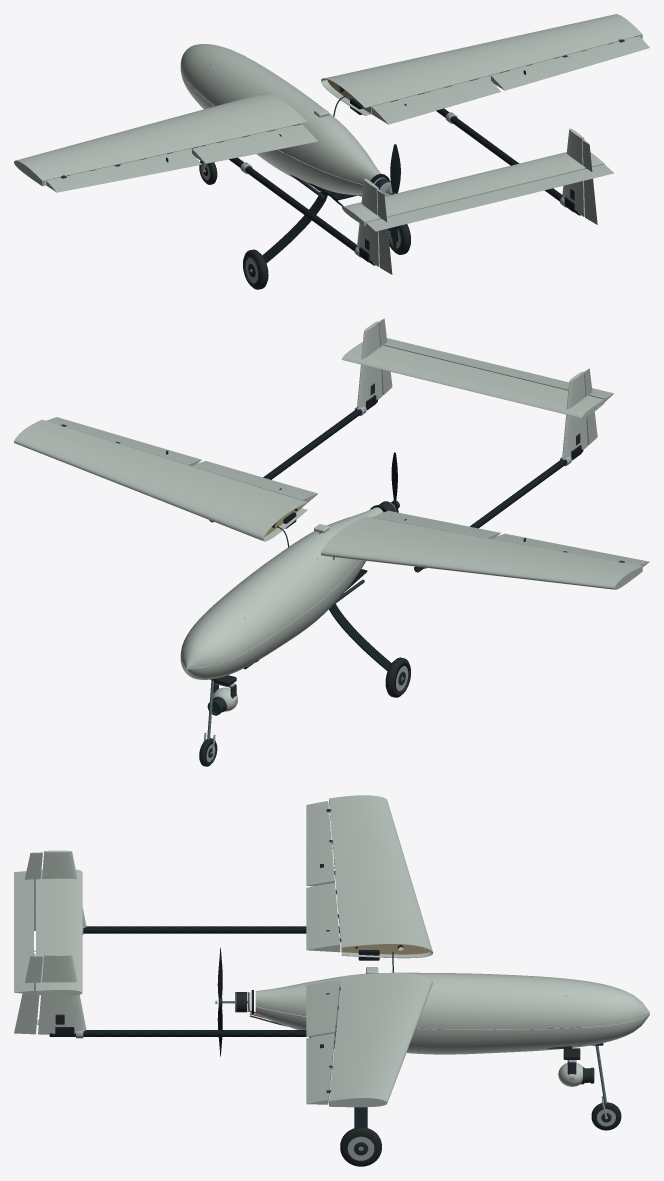
Rendered from 固定翼无人机_无商标精细模型.glb.
3 renders of one model, top to bottom at view 1: azimuth 30°, elevation 25°; view 2: azimuth 150°, elevation 25°; view 3: azimuth 270°, elevation 25°, orthographic. The views are drawn at different scales.
Visible parts, largest first — view 1: batched_upper_wing_skin_1_skin, batched_upper_wing_skin_-1_skin, batched_horizontal_stabilizer_skin, batched_removable_equipment_hatch_skin, batched_upper_rear_fairing_skin, batched_elevator_hinge_tail, batched_aileron_1_tail, batched_flap_1_tail, batched_aileron_-1_tail, batched_flap_-1_tail, batched_lower_fuselage_shell_skin, batched_landing_gear_rubber (+10 smaller); view 2: batched_upper_wing_skin_1_skin, batched_upper_wing_skin_-1_skin, batched_removable_equipment_hatch_skin, batched_horizontal_stabilizer_skin, batched_lower_fuselage_shell_skin, batched_upper_nose_shell_skin, batched_elevator_hinge_tail, batched_flap_1_tail, batched_vertical_tail_-1_skin, batched_aileron_1_tail, batched_vertical_tail_1_skin, batched_flap_-1_tail (+7 smaller); view 3: batched_upper_wing_skin_-1_skin, batched_upper_wing_skin_1_skin, batched_removable_equipment_hatch_skin, batched_lower_fuselage_shell_skin, batched_horizontal_stabilizer_skin, batched_vertical_tail_1_skin, batched_upper_nose_shell_skin, batched_elevator_hinge_tail, batched_flap_-1_tail, batched_aileron_-1_tail, batched_hollow_carbon_tail_boom_-1_carbon, batched_aileron_1_tail (+8 smaller).
Part boxes in pixels (x1,y1,x2,y2): batched_upper_wing_skin_1_skin: [321, 14, 642, 107]; batched_upper_wing_skin_-1_skin: [14, 92, 307, 180]; batched_horizontal_stabilizer_skin: [342, 152, 604, 225]; batched_removable_equipment_hatch_skin: [192, 50, 329, 152]; batched_upper_rear_fairing_skin: [284, 110, 381, 184]; batched_elevator_hinge_tail: [366, 164, 613, 231]; batched_aileron_1_tail: [491, 36, 649, 90]; batched_flap_1_tail: [372, 77, 500, 124]; batched_aileron_-1_tail: [46, 149, 201, 192]; batched_flap_-1_tail: [192, 124, 318, 163]; batched_lower_fuselage_shell_skin: [180, 69, 363, 195]; batched_landing_gear_rubber: [199, 160, 410, 289]; batched_upper_wing_skin_1_skin: [14, 419, 307, 539]; batched_upper_wing_skin_-1_skin: [321, 516, 642, 588]; batched_removable_equipment_hatch_skin: [199, 538, 341, 650]; batched_horizontal_stabilizer_skin: [341, 342, 604, 418]; batched_lower_fuselage_shell_skin: [180, 560, 365, 679]; batched_upper_nose_shell_skin: [180, 614, 248, 668]; batched_elevator_hinge_tail: [383, 338, 613, 401]; batched_flap_1_tail: [192, 461, 317, 507]; batched_vertical_tail_-1_skin: [562, 371, 587, 459]; batched_aileron_1_tail: [46, 417, 201, 466]; batched_vertical_tail_1_skin: [357, 321, 382, 409]; batched_flap_-1_tail: [372, 510, 500, 538]; batched_upper_wing_skin_-1_skin: [329, 795, 432, 952]; batched_upper_wing_skin_1_skin: [329, 973, 432, 1102]; batched_removable_equipment_hatch_skin: [390, 972, 580, 1029]; batched_lower_fuselage_shell_skin: [255, 1006, 649, 1054]; batched_horizontal_stabilizer_skin: [36, 869, 82, 995]; batched_vertical_tail_1_skin: [38, 954, 86, 1034]; batched_upper_nose_shell_skin: [581, 980, 649, 1027]; batched_elevator_hinge_tail: [14, 871, 33, 994]; batched_flap_-1_tail: [306, 883, 340, 952]; batched_aileron_-1_tail: [306, 801, 334, 886]; batched_hollow_carbon_tail_boom_-1_carbon: [83, 926, 339, 933]; batched_aileron_1_tail: [306, 1033, 334, 1104].
Size of the model in its own units: 2.4 by 0.838 by 2.13.
21 materials, 1 textured.
